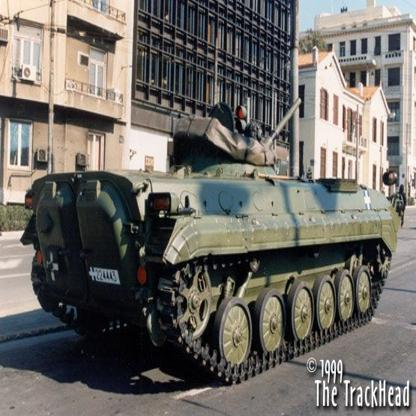Tank: (14, 100, 400, 383)
